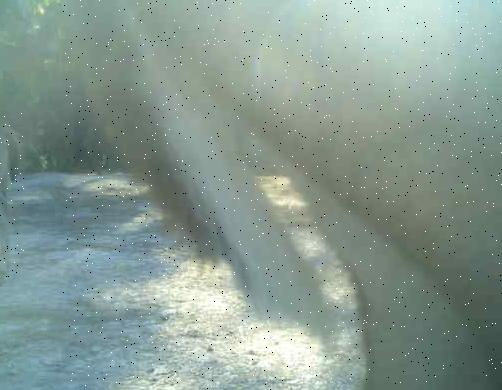Deer: (63, 0, 502, 390), (0, 113, 24, 288)
